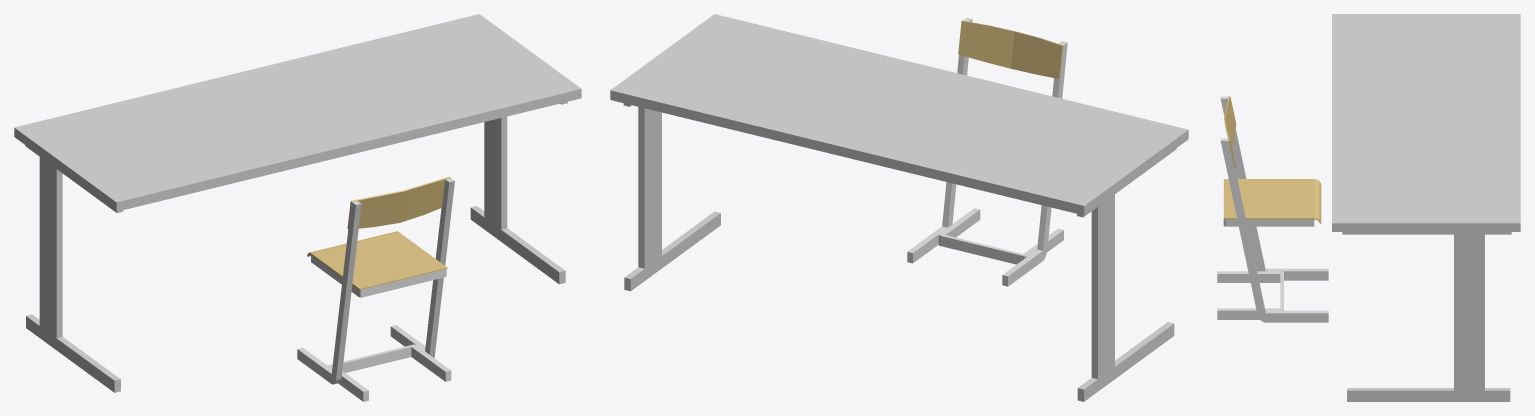
File: Stuhl.glb
3 views of the same model, side by side, from view 1: azimuth 30°, elevation 25°; view 2: azimuth 150°, elevation 25°; view 3: azimuth 270°, elevation 25° (orthographic). The views are drawn at different scales.
Visible parts, largest first — view 1: Platte, Stuhl, Beine; view 2: Platte, Beine, Stuhl; view 3: Platte, Stuhl, Beine.
Part boxes in pixels (box(x1,y1,x2,y2)): Platte: box(14, 14, 581, 211); Stuhl: box(297, 176, 454, 401); Beine: box(25, 101, 567, 392); Platte: box(610, 14, 1188, 215); Beine: box(623, 103, 1176, 401); Stuhl: box(907, 18, 1067, 286); Platte: box(1332, 14, 1520, 231); Stuhl: box(1217, 96, 1328, 322); Beine: box(1342, 232, 1511, 401).
Bounding box in the file's own units: 1.49 × 0.61 × 0.9139.
